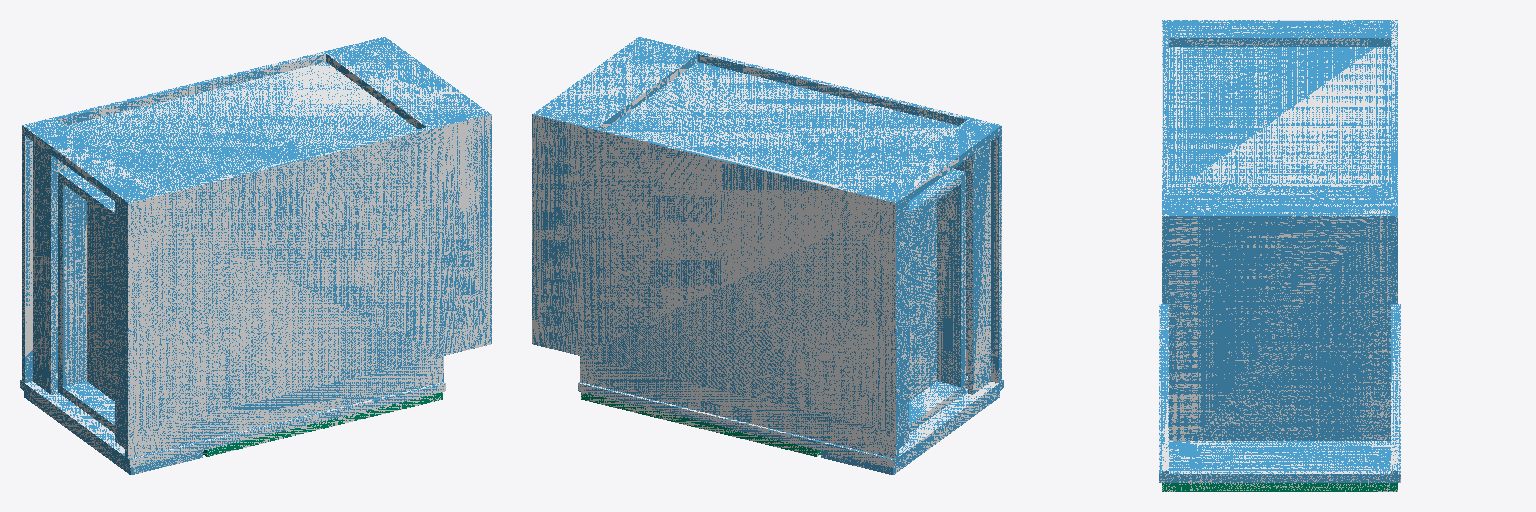
URDF robot description (right-pull-door):
<?xml version="1.0" ?>
<robot name="right-pull-door">
	<link name="base"/>
	<link name="link_0">
		<visual name="out-frame">
			<origin xyz="0 0 0"/>
			<geometry>
				<mesh filename="texture_dae/frame.dae" scale="0.7 0.7 0.7"/>
			</geometry>
		</visual>
		<collision>
			<origin xyz="0 0 0"/>
			<geometry>
				<mesh filename="texture_dae/frame.dae" scale="0.7 0.7 0.7"/>
			</geometry>
		</collision>
	</link>
	<joint name="joint_0" type="fixed">
		<origin rpy="1.570796326794897 0 -1.570796326794897" xyz="0 0 0"/>
		<child link="link_0"/>
		<parent link="base"/>
	</joint>
	<link name="link_1">
		<visual name="surf-board">
			<origin xyz="0.4743428409099579 -0.31222322653683754 0"/>
			<geometry>
				<mesh filename="texture_dae/board.dae" scale="0.7 0.7 0.7"/>
			</geometry>
		</visual>
		<collision>
			<origin xyz="0.4743428409099579 -0.31222322653683754 0"/>
			<geometry>
				<mesh filename="texture_dae/board.dae" scale="0.7 0.7 0.7"/>
			</geometry>
		</collision>
	</link>
	<joint name="joint_1" type="revolute">
		<origin xyz="-0.4743428409099579 0.31222322653683754 0"/>
		<axis xyz="0 -1 0"/>
		<child link="link_1"/>
		<parent link="link_0"/>
		<limit lower="0" upper="1.5079644737231006"/>
	</joint>
	<link name="link_2">
		<visual name="handle">
			<origin xyz="0 0 0"/>
			<geometry>
				<mesh filename="texture_dae/9962019.dae" scale="1.525530381046416 1.525530381046416 1.525530381046416"/>
			</geometry>
		</visual>
		<collision>
			<origin xyz="0 0 0"/>
			<geometry>
				<mesh filename="texture_dae/9962019.dae" scale="1.525530381046416 1.525530381046416 1.525530381046416"/>
			</geometry>
		</collision>
	</link>
	<joint name="joint_2" type="revolute">
		<origin xyz="0.4743428409099579 -0.31222322653683754 0.010946742194253194"/>
		<child link="link_2"/>
		<parent link="link_1"/>
		<axis xyz="0 0 1"/>
		<limit lower="0" upper="1.5079644737231006"/>
	</joint>
</robot>

--- Facts derived from the render (not from the file) ---
3 views of the same robot in one strip: view 1: azimuth 30°, elevation 25°; view 2: azimuth 150°, elevation 25°; view 3: azimuth 270°, elevation 25° (orthographic).
Model right-pull-door with 4 links and 3 joints (2 revolute, 1 fixed), rooted at base, posed all joints at 0.
Links seen in each view (by area): view 1: link_0, link_1; view 2: link_0, link_1; view 3: link_0, link_1.
Link boxes in pixels (left/top/right/bottom): link_0: left=20, top=37, right=491, bottom=474; link_1: left=203, top=392, right=442, bottom=456; link_0: left=532, top=37, right=1003, bottom=474; link_1: left=581, top=392, right=820, bottom=456; link_0: left=1159, top=20, right=1400, bottom=482; link_1: left=1162, top=483, right=1397, bottom=491.
Bounding box of the posed robot: 1.02 × 0.5311 × 0.7532 m (x, y, z).
Meshes: 3 distinct files referenced, 2 mesh visuals loaded (2 Collada DAE); not drawn: 1 (reference not matched to a file when rendering).
